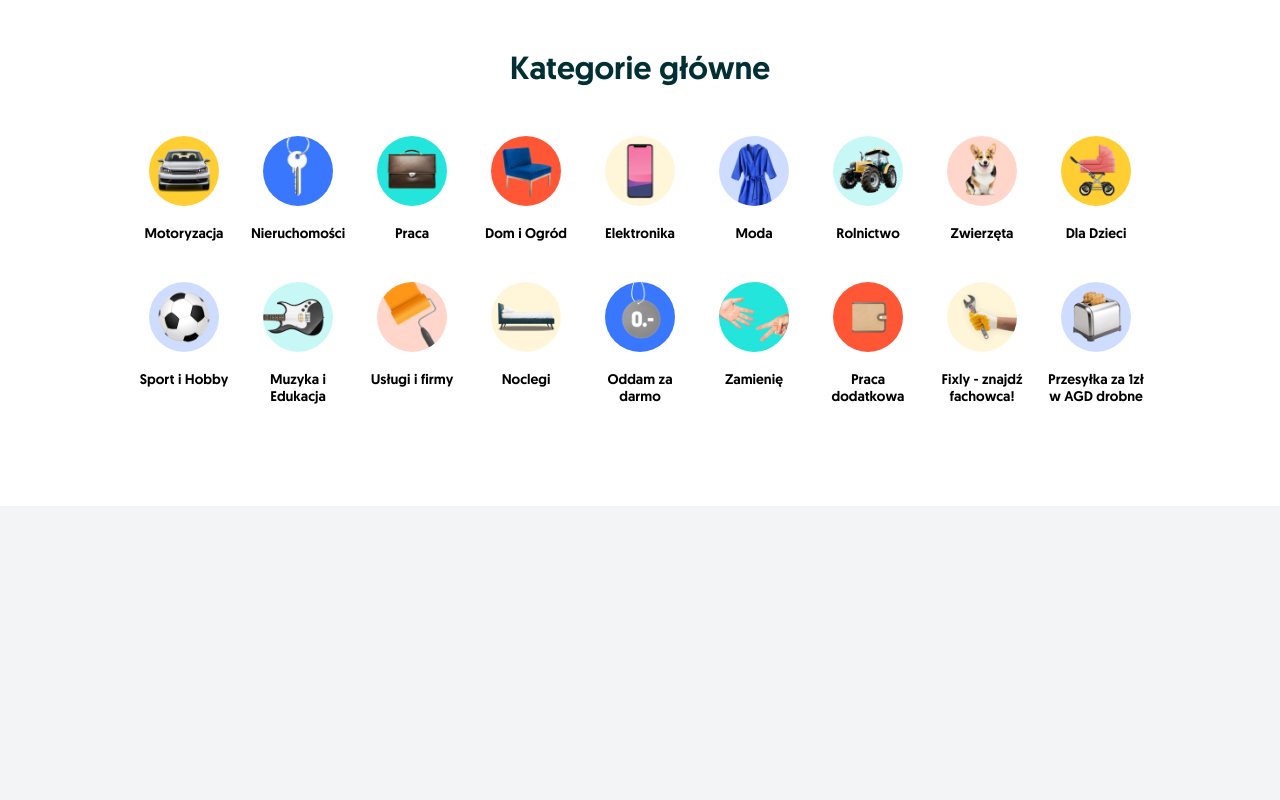
Test: Categories › Interaction › subcategories should be hidden after second clicking on the same category
Step 1. Click the button with aria-label "pokaż kategorię" → x=184, y=189, box [144,136,224,242]
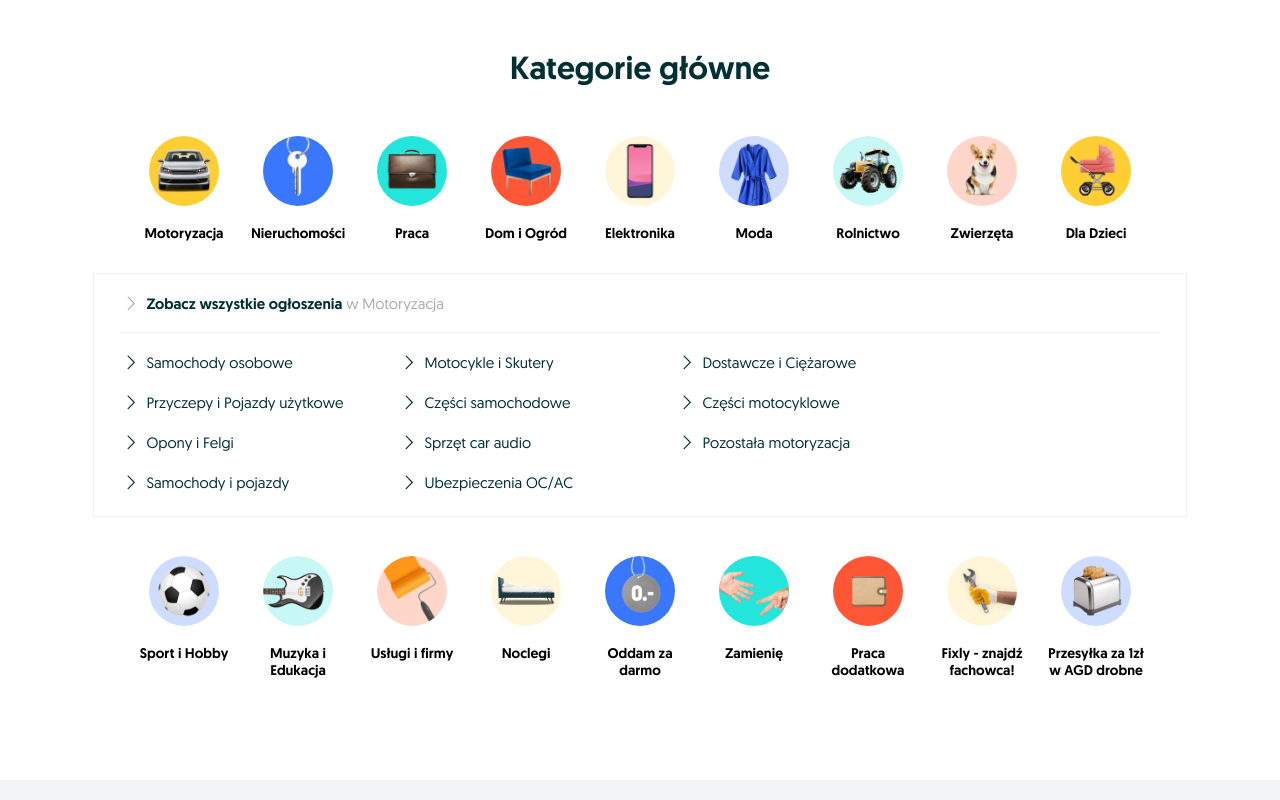
Step 2. Click the button with aria-label "pokaż kategorię" → x=184, y=189, box [144,136,224,242]
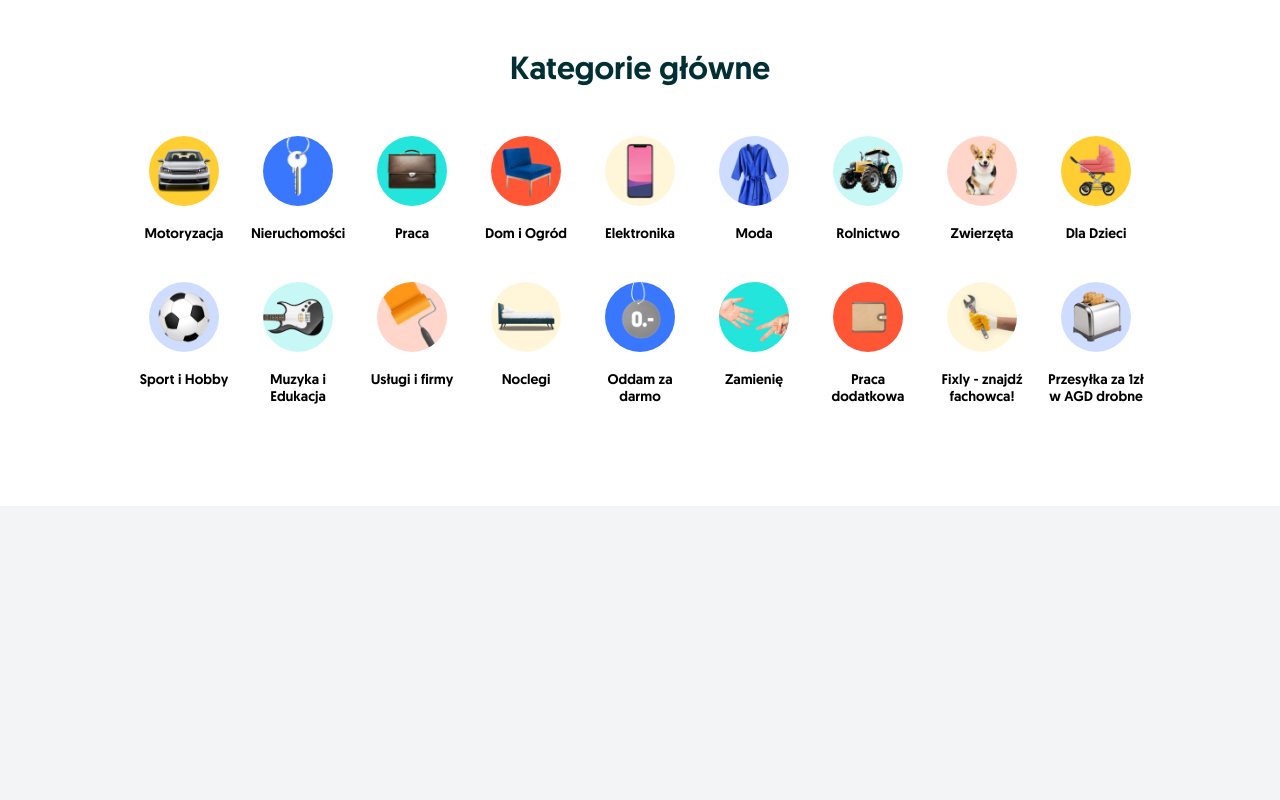
Expected: the list is gone
